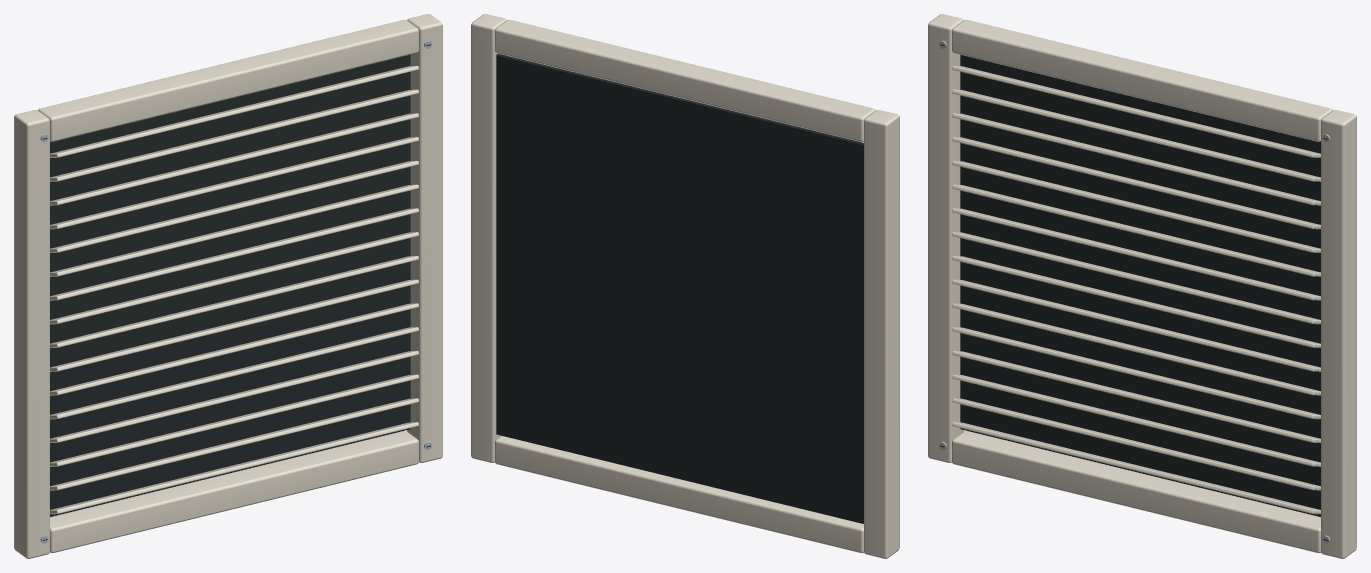
File: utility-return-grille.glb
3 views of the same model, side by side, from view 1: azimuth 30°, elevation 25°; view 2: azimuth 150°, elevation 25°; view 3: azimuth 330°, elevation 25° (orthographic).
Visible parts, largest first — view 1: utility-return-grille authored assembly; view 2: utility-return-grille authored assembly; view 3: utility-return-grille authored assembly.
Part boxes in pixels (x1,y1,x2,y2): utility-return-grille authored assembly: [14, 14, 442, 558]; utility-return-grille authored assembly: [471, 14, 899, 558]; utility-return-grille authored assembly: [928, 14, 1356, 558].
Bounding box in the file's own units: 0.35 × 0.35 × 0.025.
